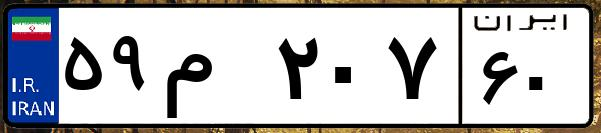0: (330, 28, 385, 110), (525, 38, 570, 115)
2: (270, 28, 330, 110)
5: (57, 26, 110, 100)
6: (475, 38, 525, 113)
7: (385, 28, 445, 110)
9: (110, 28, 158, 98)
م: (158, 20, 270, 120)
